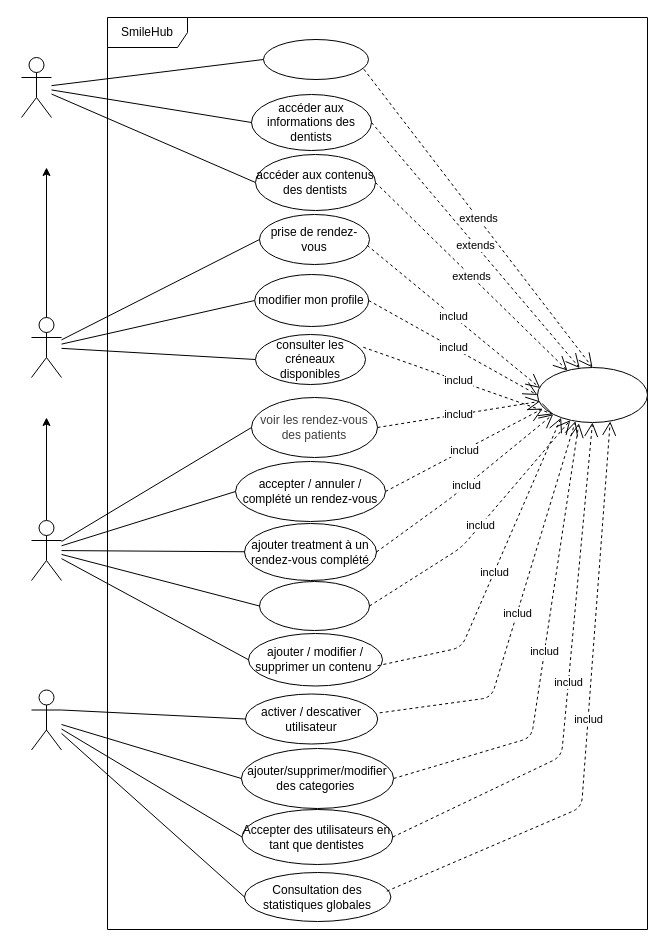
Image size: 665x947. Some labels were removed from this diagram. Here are the shapes that lost their labels. From the top down, the box of each, then its label:
(262, 38, 368, 80): naviger sue le site
(20, 56, 52, 118): visiteur
(30, 316, 62, 378): patient
(536, 366, 648, 422): login
(30, 520, 62, 580): dentiste
(258, 580, 370, 630): voir les statistics
(30, 689, 62, 750): Admin
